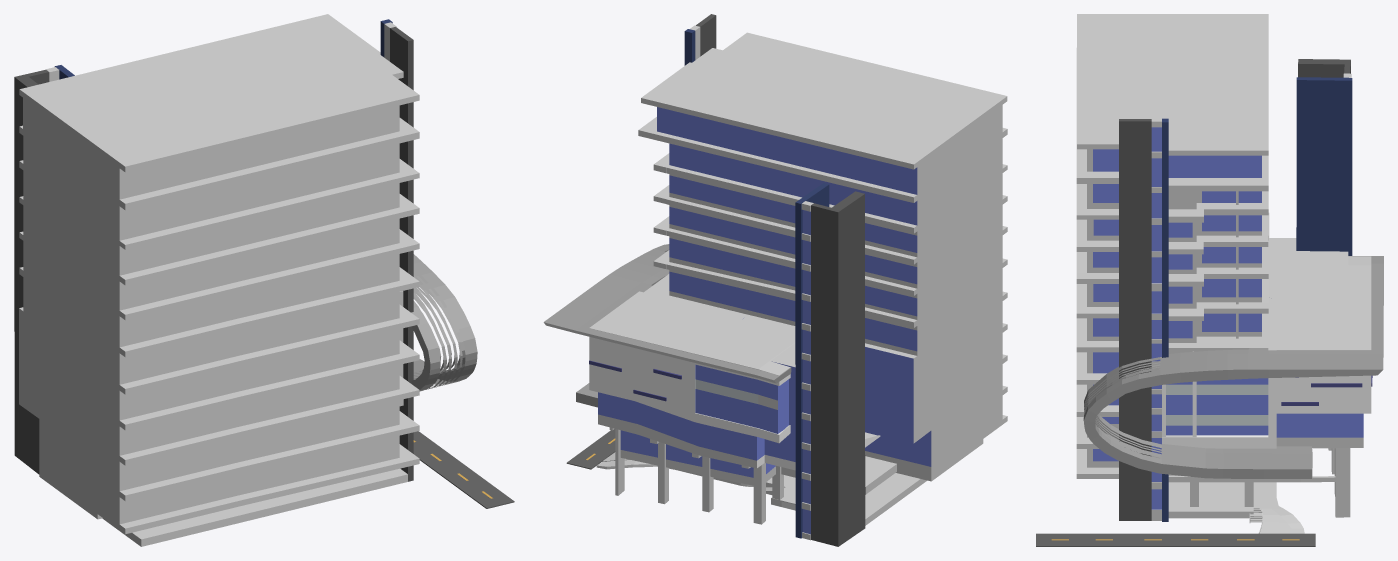
The model's file is ALL.fbx.
The picture shows the model from 3 angles, left to right: view 1: azimuth 30°, elevation 25°; view 2: azimuth 150°, elevation 25°; view 3: azimuth 270°, elevation 25°; orthographic projection. The views are drawn at different scales.
Visible parts, largest first — view 1: Cube.002; view 2: Cube.002; view 3: Cube.002.
Part boxes in pixels (x1,y1,x2,y2): Cube.002: (14,14,514,546); Cube.002: (543,14,1007,546); Cube.002: (1036,14,1383,546).
Bounding box in the file's own units: 2311 × 2685 × 2092.
